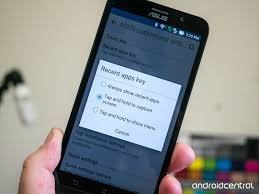asus: (53, 1, 212, 194)
